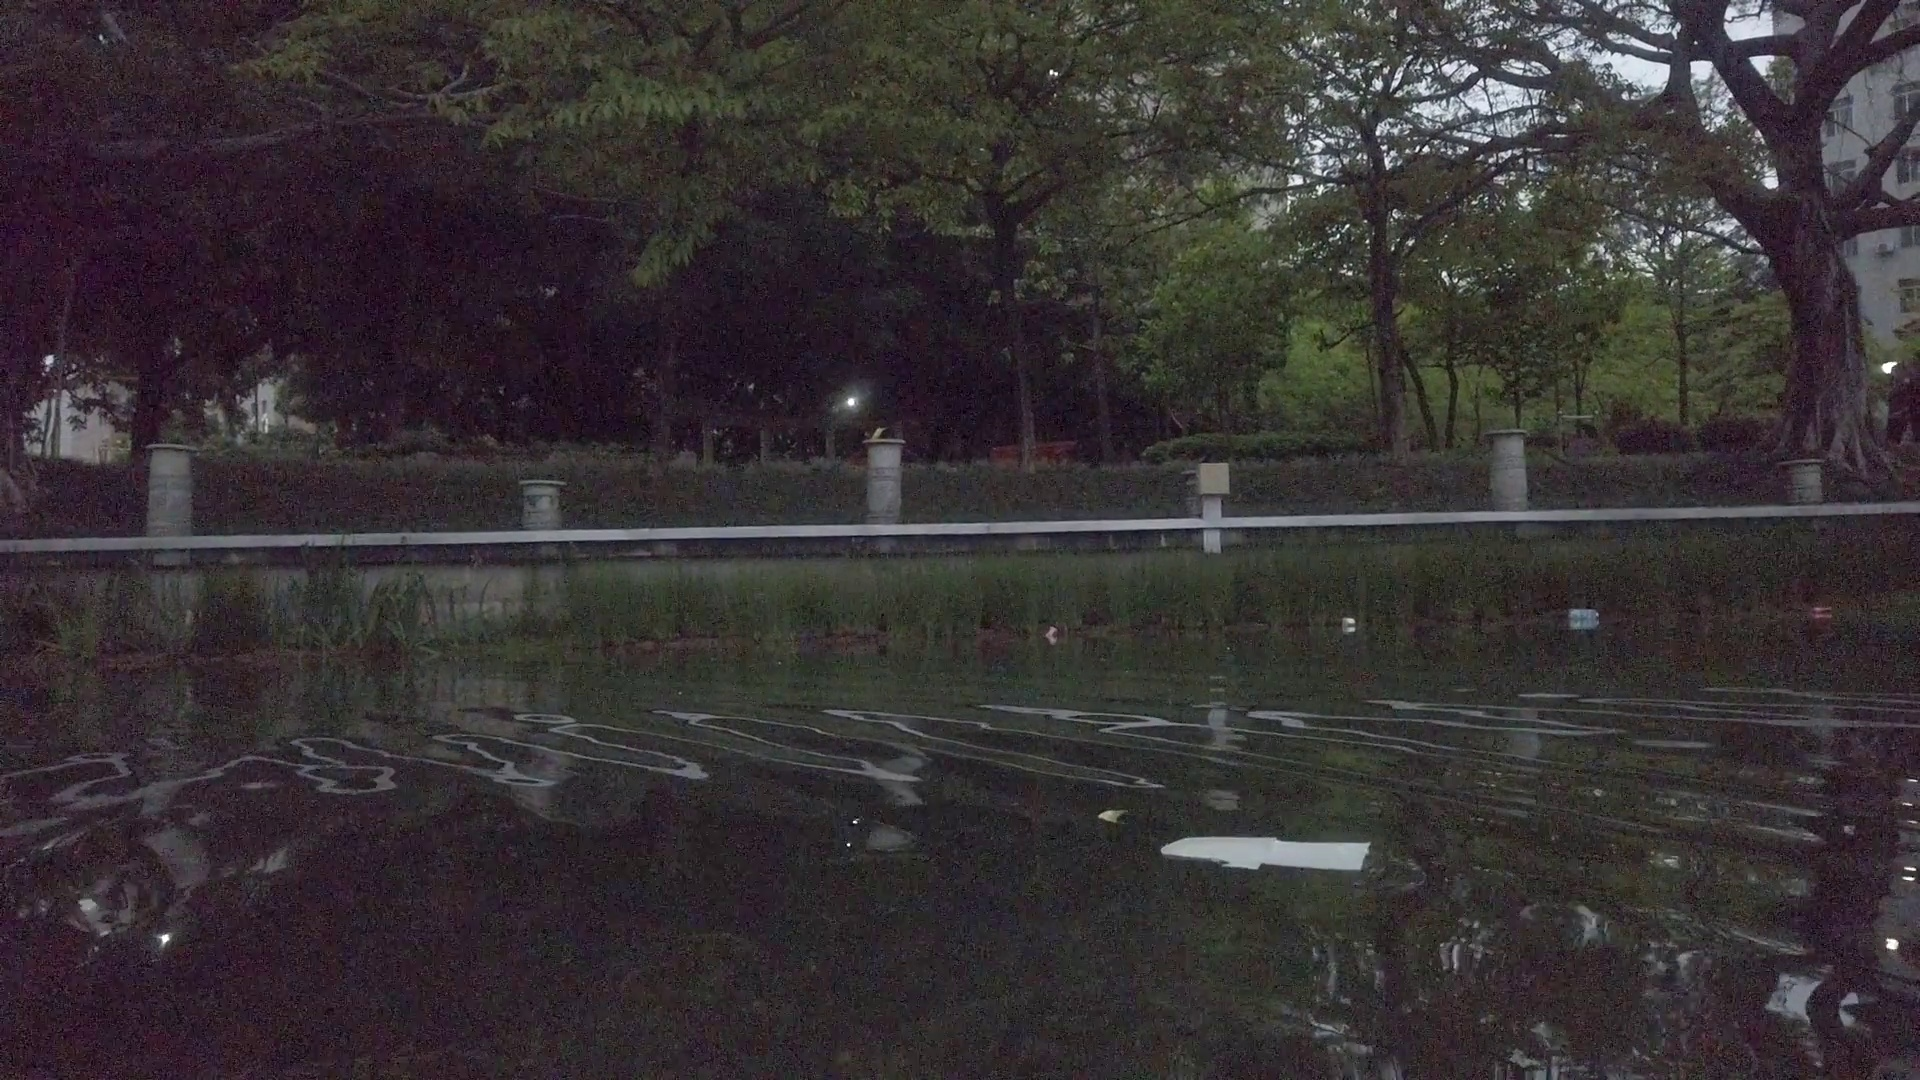bottle: (1568, 607, 1604, 621), (1046, 626, 1059, 640)
carton: (1342, 613, 1356, 628)
paper: (1156, 831, 1375, 876)
